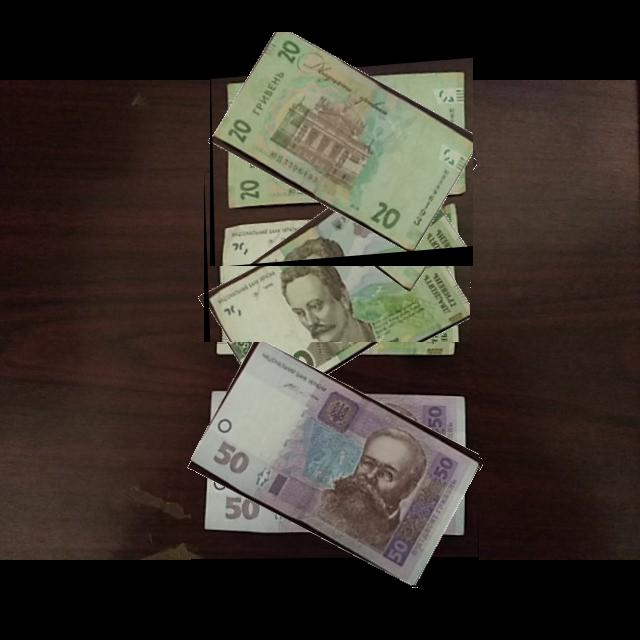20uah: (212, 32, 474, 255), (208, 189, 471, 406)
50uah: (191, 342, 480, 588)
